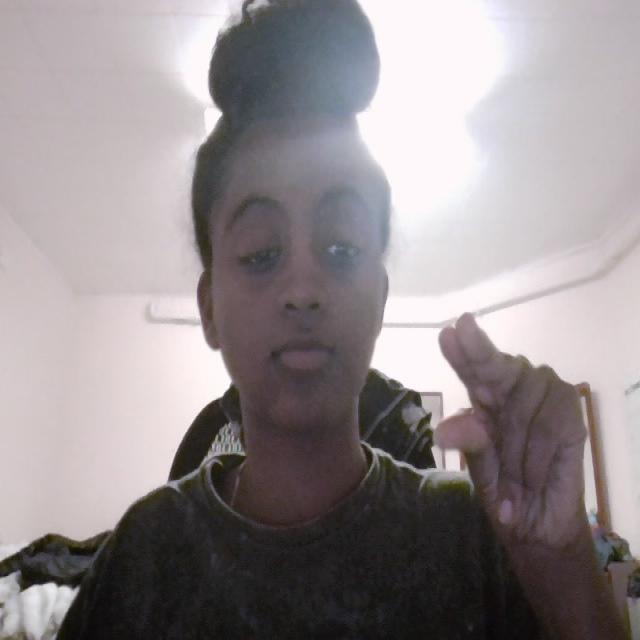no: (408, 267, 602, 550)
